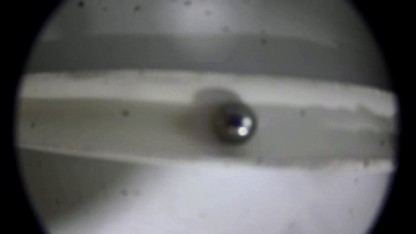gangzhu: (214, 102, 260, 144)
